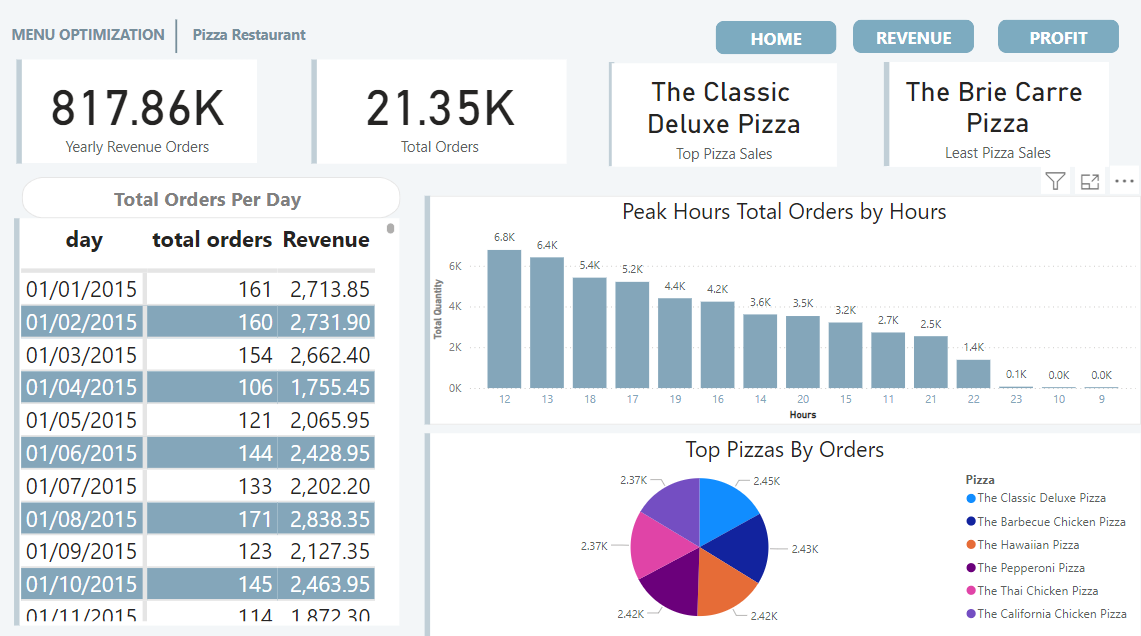

What the dashboard file says about the page in this screenshot:
{"tool":"powerbi","page":{"name":"HOME","canvas":[1280,720],"ordinal":0},"visuals":[{"type":"textbox","box":[15.1,30.2,190.7,37],"z":0},{"type":"shape","box":[180,30,42.9,37.1],"z":1000},{"type":"textbox","box":[214.3,30,151.4,44.3],"z":2000},{"type":"card","fields":{"Values":["Sum(yearly_orders.sum of sales)"]},"box":[27.4,74.1,262.1,113.9],"z":3000},{"type":"shape","box":[15.7,74.3,27.1,114.3],"z":4000},{"type":"card","fields":{"Values":["Sum(count of orders.Revenue)"]},"box":[351.4,74.3,278.6,114.3],"z":5000},{"type":"shape","box":[338.6,74.3,27.1,114.3],"z":6000},{"type":"shape","box":[665.7,77.1,27.1,114.3],"z":7000},{"type":"card","fields":{"Values":["Min(least pizza.pizzaname)"]},"box":[981.1,76.8,244.3,115.3],"z":8000},{"type":"shape","box":[967.1,77.1,27.1,114.3],"z":9000},{"type":"pivotTable","fields":{"Rows":["total_daily_orders_vw.day"],"Values":["Sum(total_daily_orders_vw.total daily orders)","Sum(total_daily_orders_vw.Revenue)"]},"box":[26.1,248.4,419.9,447.3],"z":10000},{"type":"shape","box":[27.4,203.1,424,45.3],"z":11000},{"type":"textbox","box":[127.6,207.2,225,41.2],"z":12000},{"type":"shape","box":[8.6,248.6,35.7,447.1],"z":13000},{"type":"columnChart","title":"Peak Hours Total Orders by Hours","fields":{"Category":["full_orders_details_vw.hour"],"Y":["Sum(full_orders_details_vw.quantity)"]},"box":[477.5,223.7,782.2,251.1],"z":14000},{"type":"shape","box":[462.4,223.7,28.8,251.1],"z":15000},{"type":"pieChart","title":"Top Pizzas By Orders","fields":{"Category":["pizza_types.name"],"Y":["Sum(order_details.quantity)"]},"box":[478.9,484.4,780.8,226.4],"z":16000},{"type":"shape","box":[465.2,484.4,23.3,236],"z":17000},{"type":"card","fields":{"Values":["Min(top pizza.pizzaname)"]},"box":[679.2,78.2,247,113.9],"z":18000},{"type":"actionButton","box":[793.1,31.6,133.1,37],"z":19000},{"type":"actionButton","box":[944.1,30.2,133.1,37],"z":20000},{"type":"actionButton","box":[1103.3,30.2,133.1,37],"z":21000}]}

Visuals, with their boxes in screenshot pixels (x1, y1, x2, y2), scaled from the page's 1280x720 canvas onto the 1141x636 screenshot:
textbox: bbox=(13, 27, 183, 59)
shape: bbox=(160, 26, 199, 59)
textbox: bbox=(191, 26, 326, 66)
card - Sum(yearly_orders.sum of sales): bbox=(24, 65, 258, 166)
shape: bbox=(14, 66, 38, 167)
card - Sum(count of orders.Revenue): bbox=(313, 66, 562, 167)
shape: bbox=(302, 66, 326, 167)
shape: bbox=(593, 68, 618, 169)
card - Min(least pizza.pizzaname): bbox=(875, 68, 1092, 170)
shape: bbox=(862, 68, 886, 169)
pivotTable - total_daily_orders_vw.day x Sum(total_daily_orders_vw.total daily orders): bbox=(23, 219, 398, 615)
shape: bbox=(24, 179, 402, 219)
textbox: bbox=(114, 183, 314, 219)
shape: bbox=(8, 220, 39, 615)
"Peak Hours Total Orders by Hours" columnChart: bbox=(426, 198, 1123, 419)
shape: bbox=(412, 198, 438, 419)
"Top Pizzas By Orders" pieChart: bbox=(427, 428, 1123, 628)
shape: bbox=(415, 428, 435, 635)
card - Min(top pizza.pizzaname): bbox=(605, 69, 826, 170)
actionButton: bbox=(707, 28, 826, 61)
actionButton: bbox=(842, 27, 960, 59)
actionButton: bbox=(983, 27, 1102, 59)
